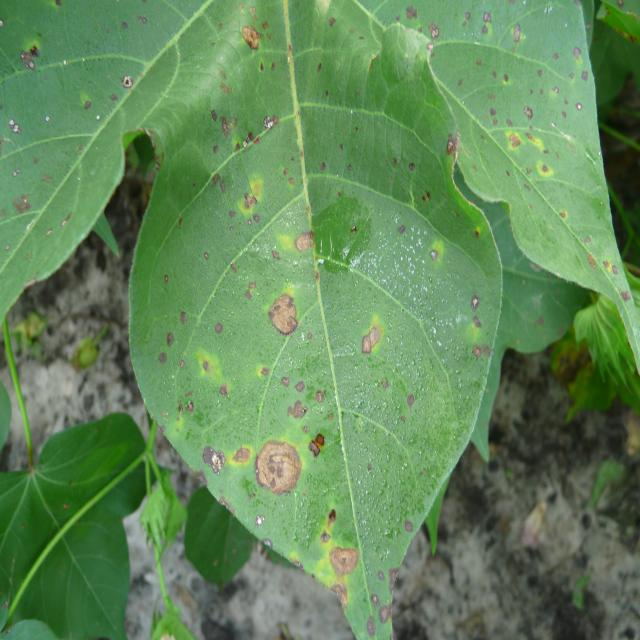Aphids: (3, 3, 636, 637)
Cotton Ball Rot: (252, 437, 304, 500), (264, 291, 302, 341)
